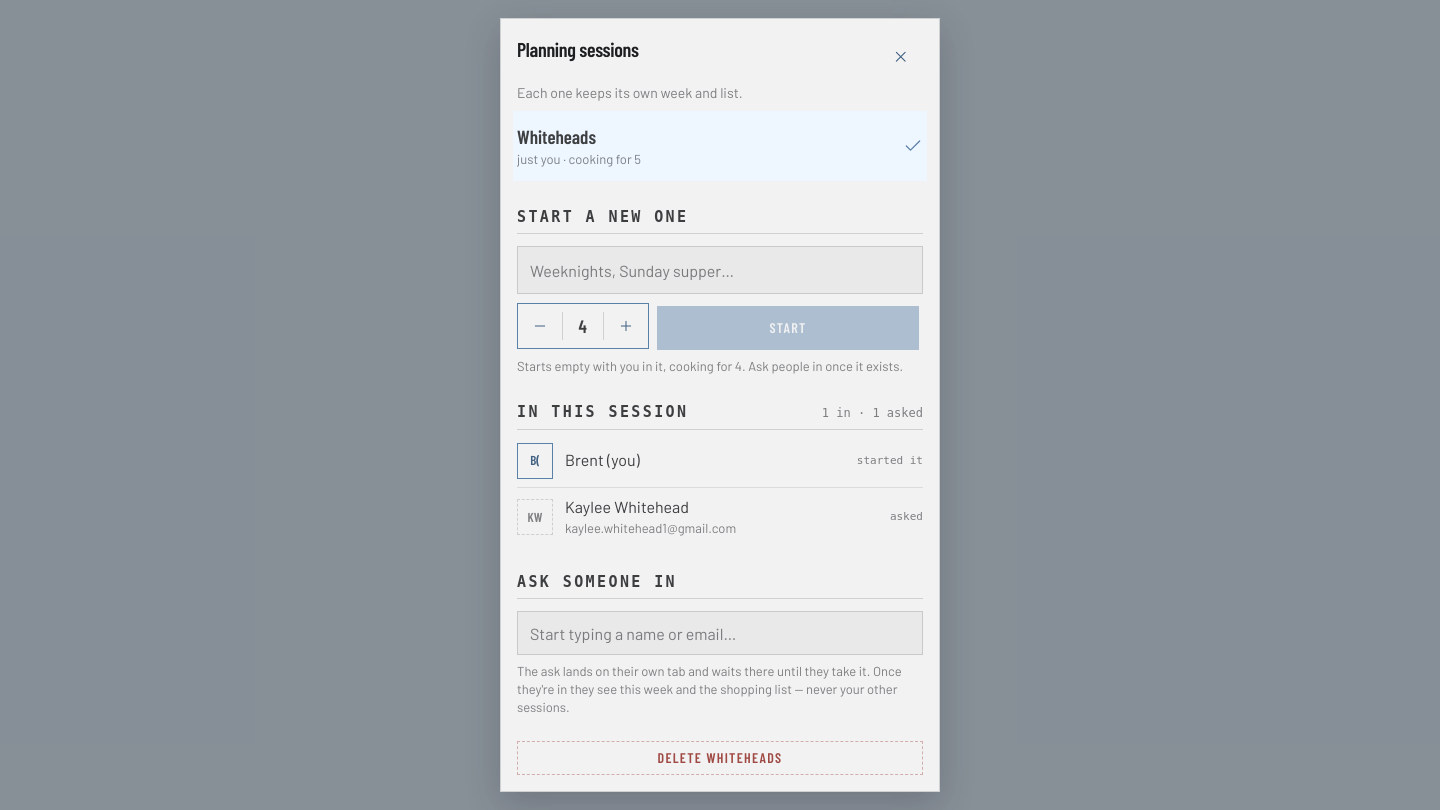
Test: asks already sent › still offers everybody who has not been asked
The width and height of the screenshot is (1440, 810).
In the search field named "search people": {"x": 720, "y": 634} [517, 612, 923, 656], type "ryan"
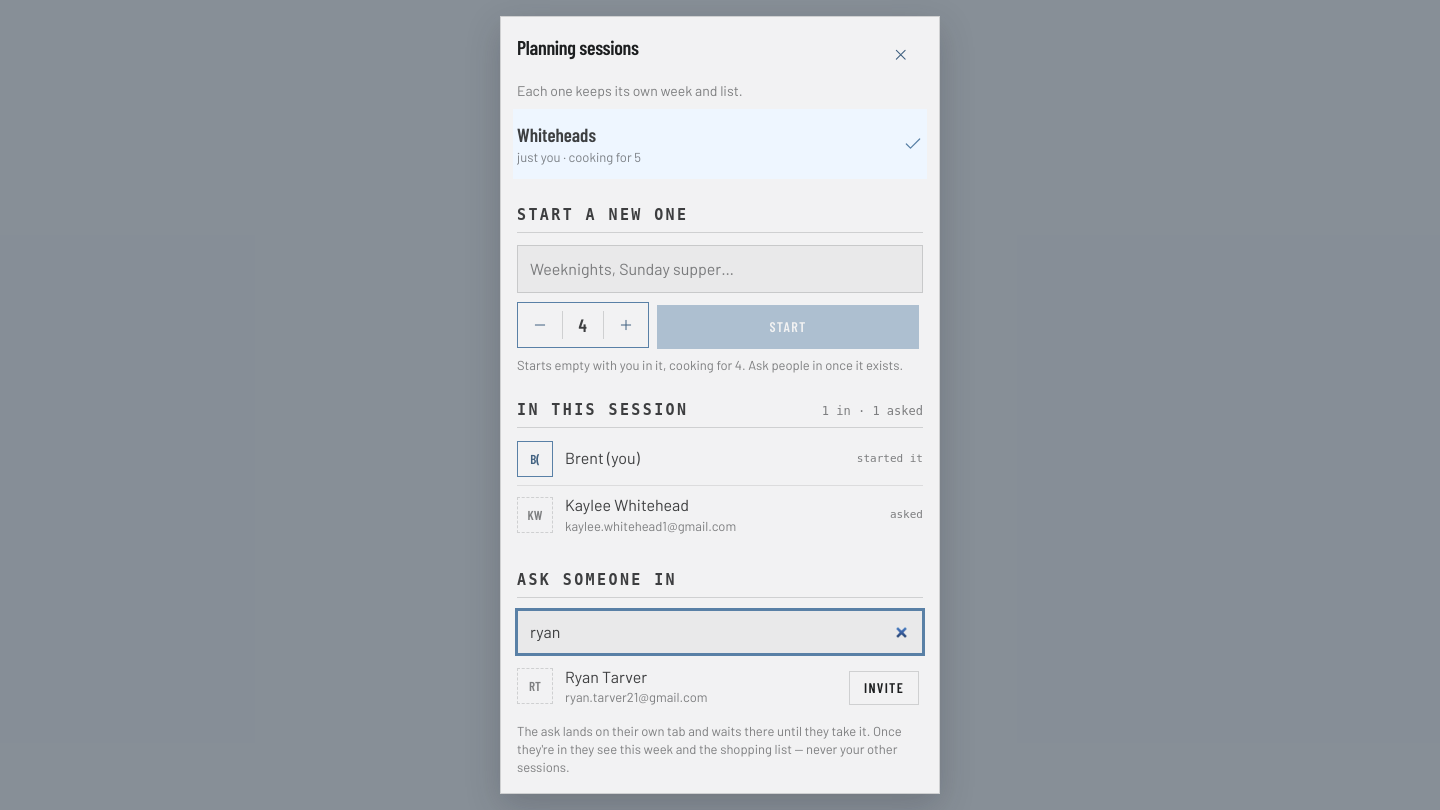
Check: the button with aria-label "ryan.tarver21" is shown, box [849, 671, 919, 705]
